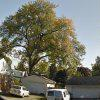Tree: (8, 2, 88, 69)
